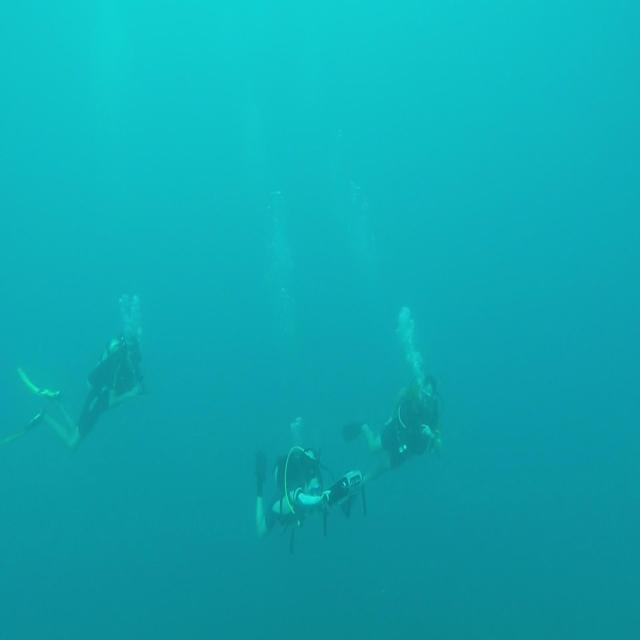human: (3, 292, 146, 452), (327, 372, 442, 518), (254, 443, 364, 549)
